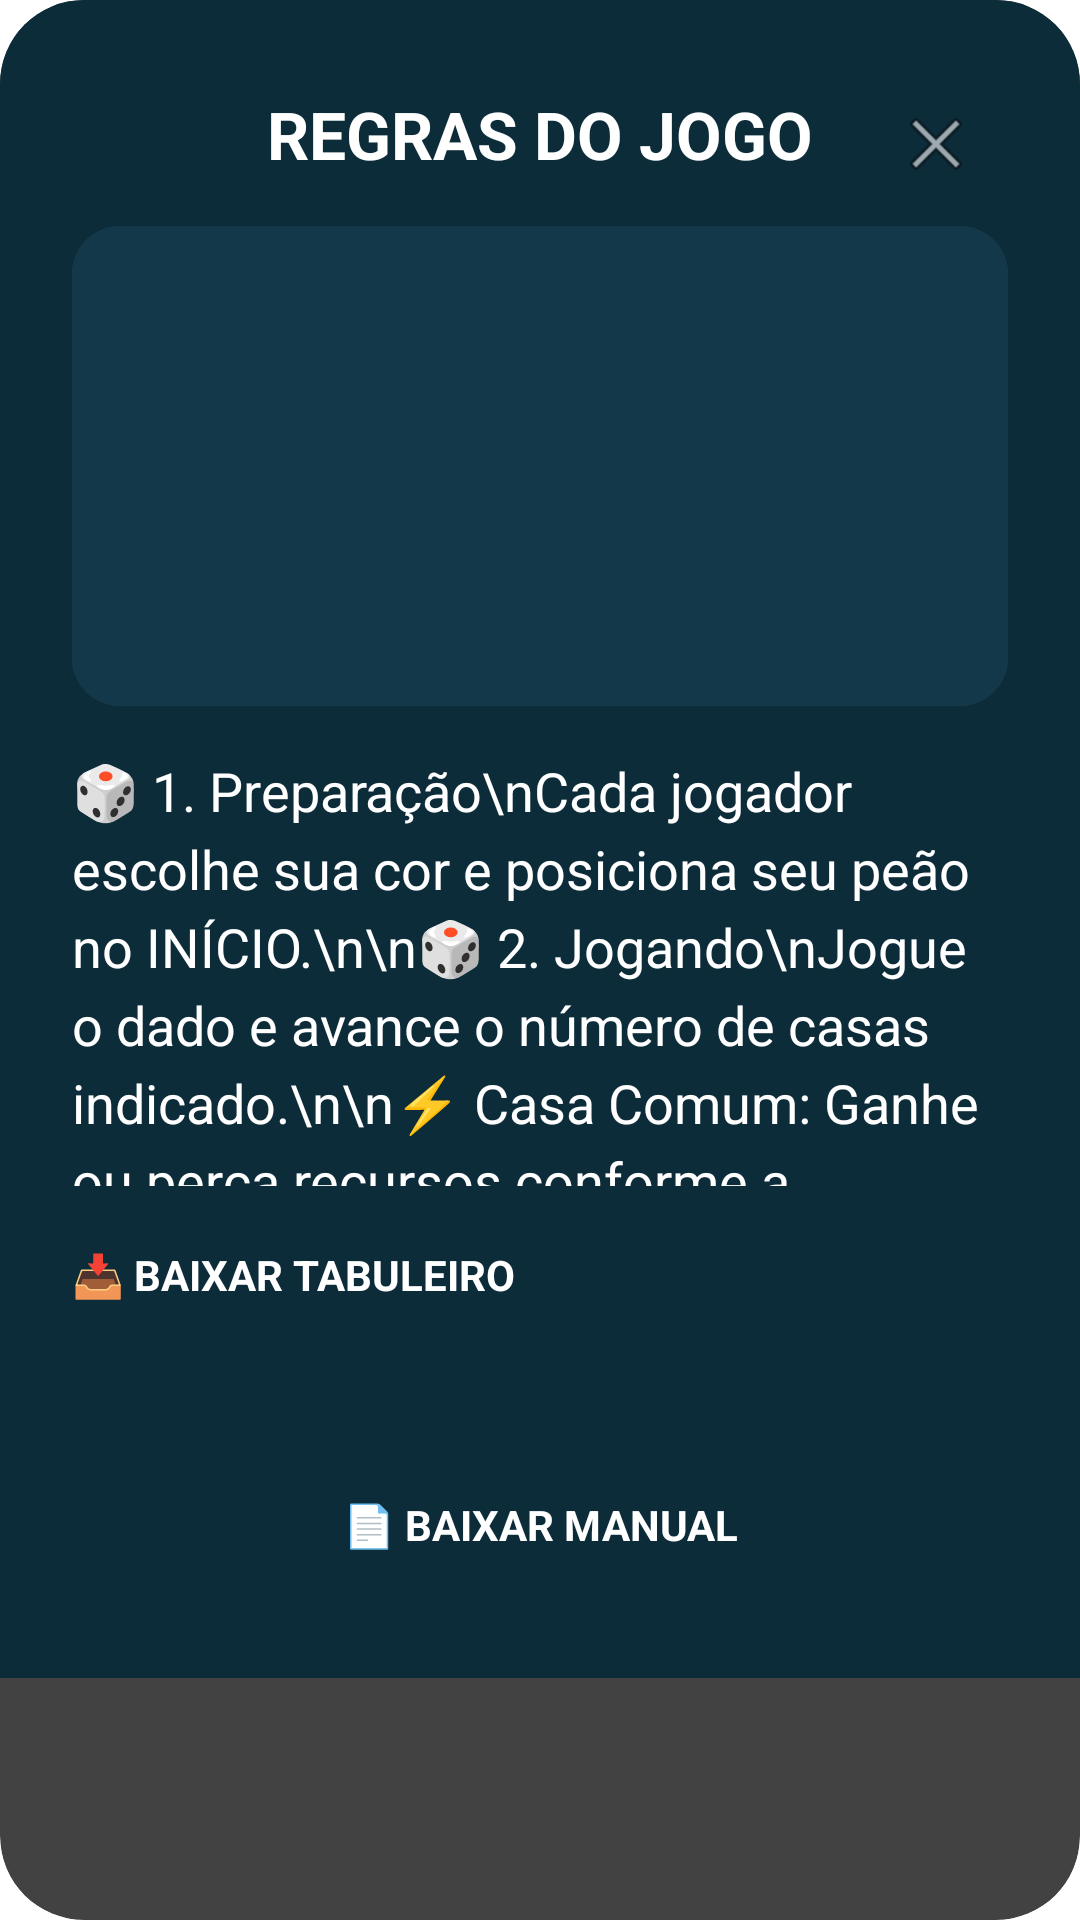

Screen size 1080 x 1920. Icon name, then its center in pixels as point (x, y):
Fechar: point (936, 144)
